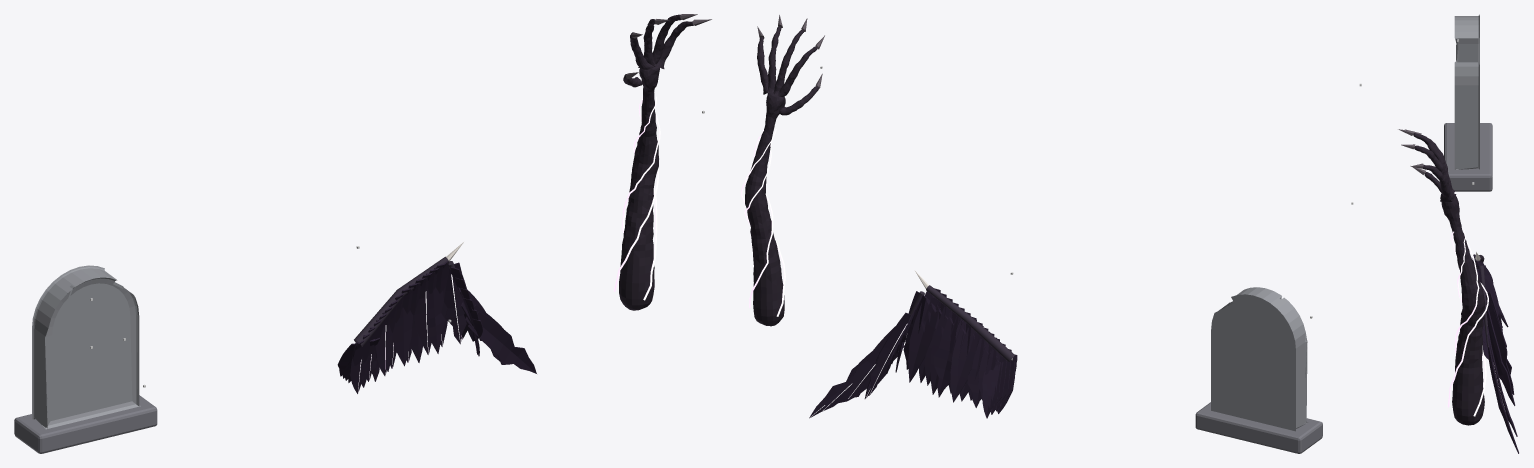
File: FallenAngel.fbx
3 views of the same model, side by side, from view 1: azimuth 30°, elevation 25°; view 2: azimuth 150°, elevation 25°; view 3: azimuth 270°, elevation 25° (orthographic). The views are drawn at different scales.
Parts seen in each view (by area): view 1: Grave_Stone, Wing_Feathers, Arm_Flesh, Grave_Base, Wing_Bone; view 2: Grave_Stone, Wing_Feathers, Arm_Flesh, Grave_Base, Wing_Bone; view 3: Arm_Flesh, Grave_Stone, Wing_Feathers, Grave_Base, Arm_Vein3, Arm_Vein1, Wing_Hand, Arm_Vein2, Arm_Claws.
Part boxes in pixels (x1,y1,x2,y2): Grave_Stone: (32,265,140,429); Wing_Feathers: (337,261,536,393); Arm_Flesh: (619,14,693,310); Grave_Base: (14,395,157,453); Wing_Bone: (354,256,449,346); Grave_Stone: (1211,287,1307,431); Wing_Feathers: (809,288,1017,418); Arm_Flesh: (745,26,818,326); Grave_Base: (1195,402,1322,453); Wing_Bone: (926,285,1014,362); Arm_Flesh: (1413,133,1485,425); Grave_Stone: (1454,14,1479,169); Wing_Feathers: (1472,254,1518,453); Grave_Base: (1444,123,1492,191); Arm_Vein3: (1447,231,1488,407); Arm_Vein1: (1457,230,1486,416); Wing_Hand: (1478,265,1488,347); Arm_Vein2: (1455,240,1479,353); Arm_Claws: (1398,129,1425,174).
Bounding box in the file's own units: 714 × 402 × 173.
